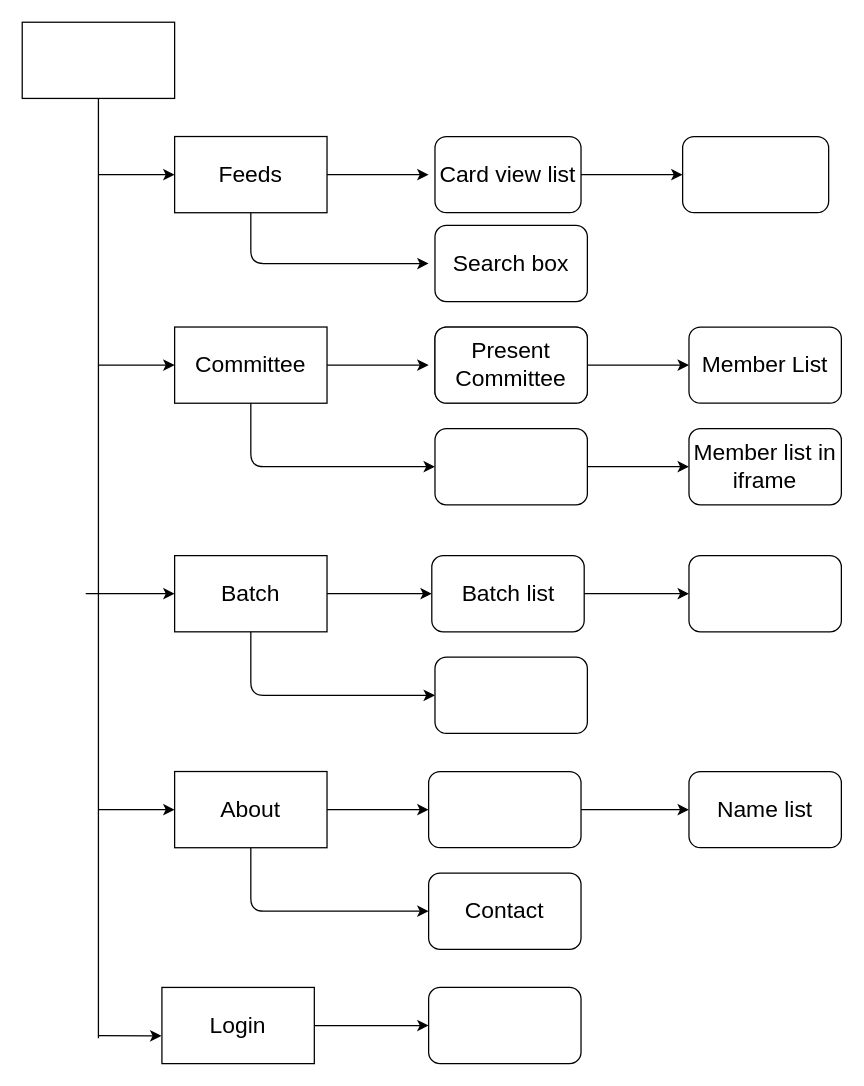
Image size: 864x1086. Some labels were removed from this diagram. The shapes that lost their labels are listed below. From the top down, each one's box as (x1, y1, x2, y2) in pixels, then its label:
(21, 21, 175, 98): Index
(681, 135, 829, 213): Blog
(434, 427, 587, 505): All Committee
(688, 554, 841, 632): Student list
(434, 656, 587, 733): Search batch
(427, 770, 581, 848): Contributors
(427, 986, 581, 1064): Username and password
